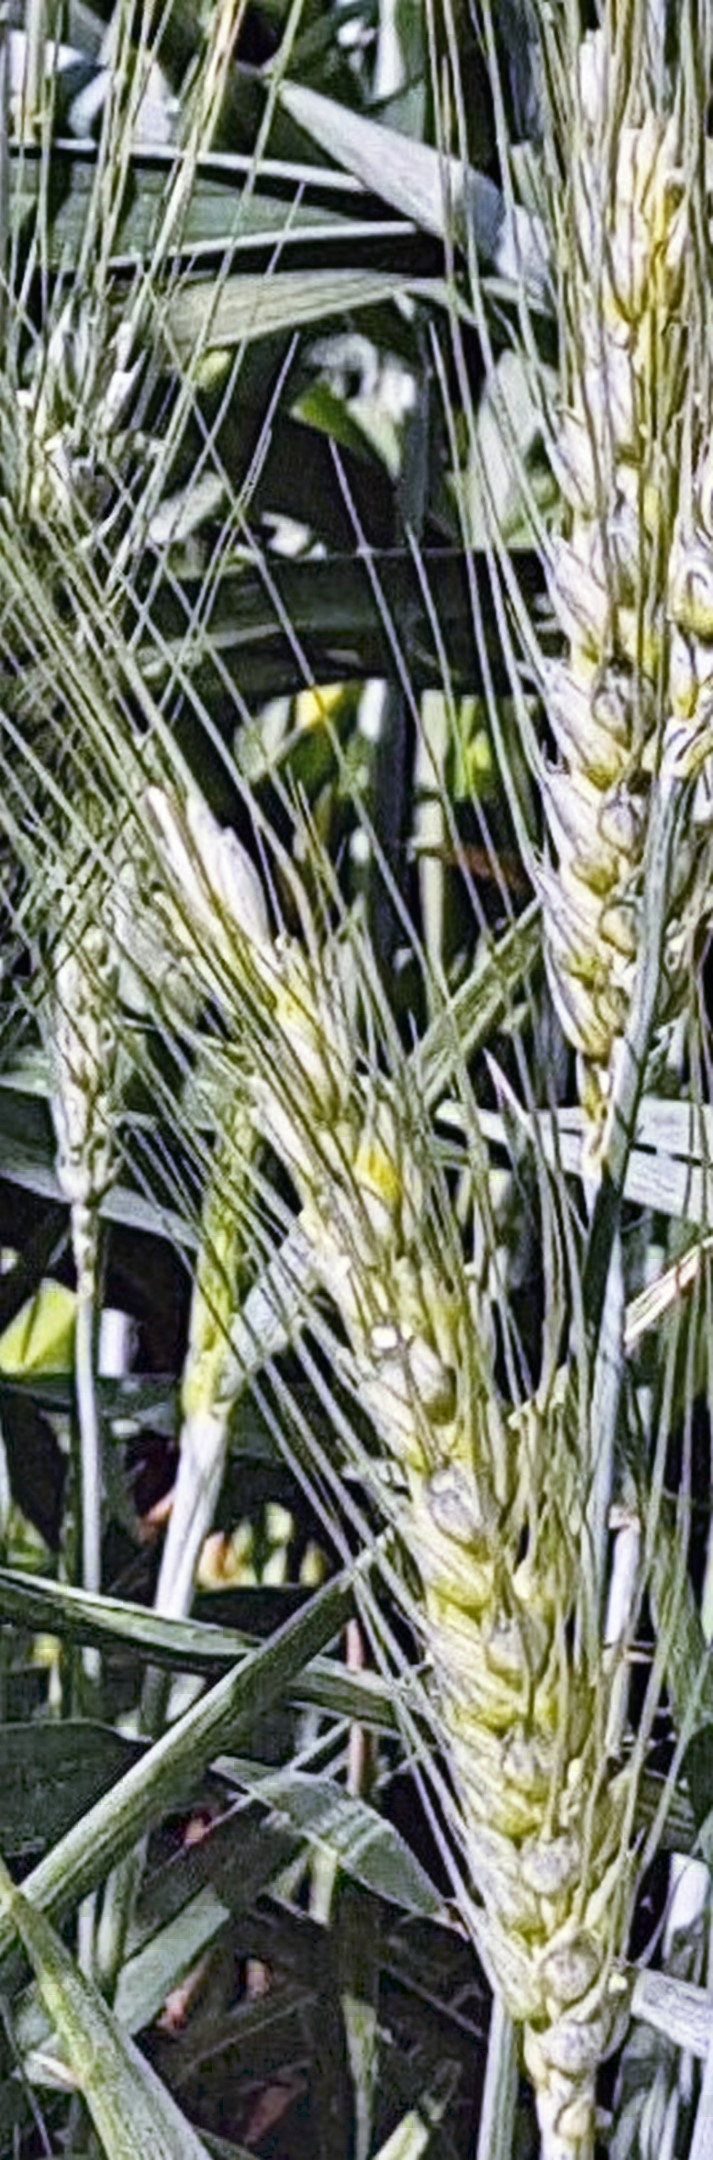Healthy Wheat: (255, 970, 713, 2059)
